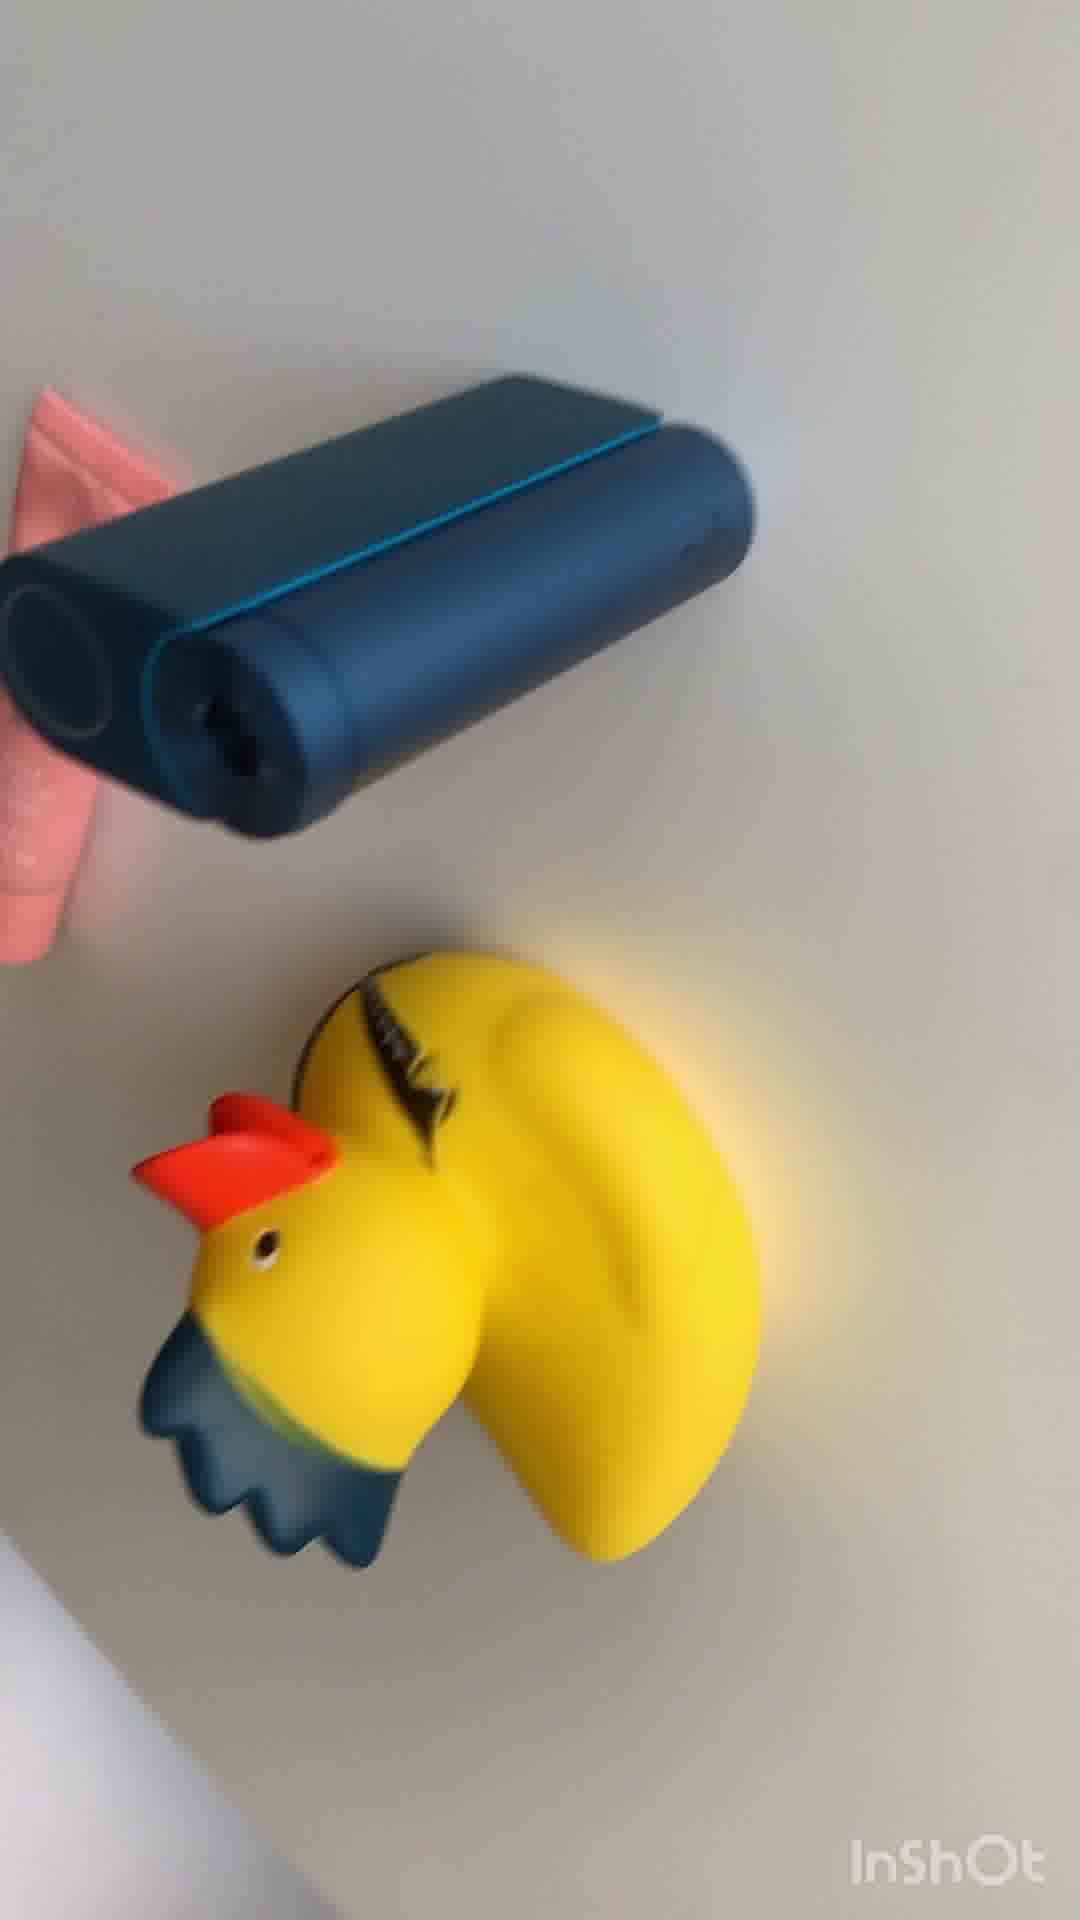duck: (133, 945, 764, 1598)
glo: (1, 353, 774, 844)
lip balm: (1, 390, 193, 967)
